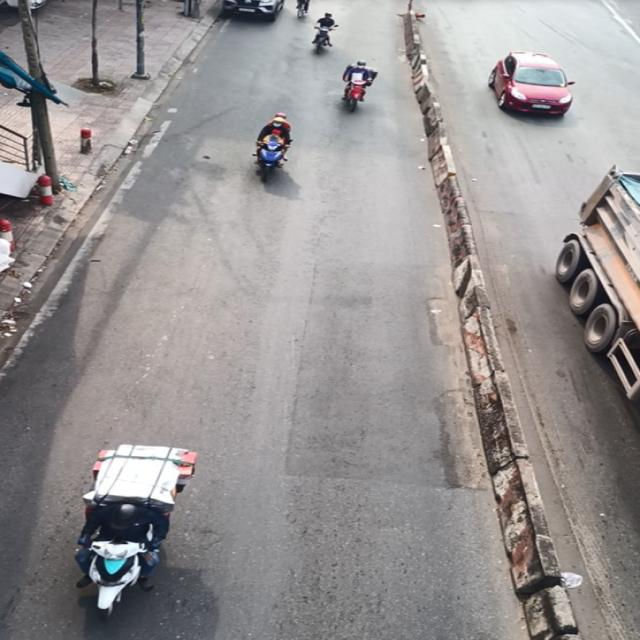car: (488, 42, 581, 126)
motor: (54, 483, 188, 640), (233, 111, 295, 195), (330, 58, 380, 122)
